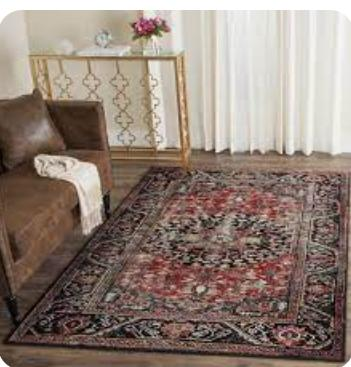carpet: (9, 163, 350, 360)
